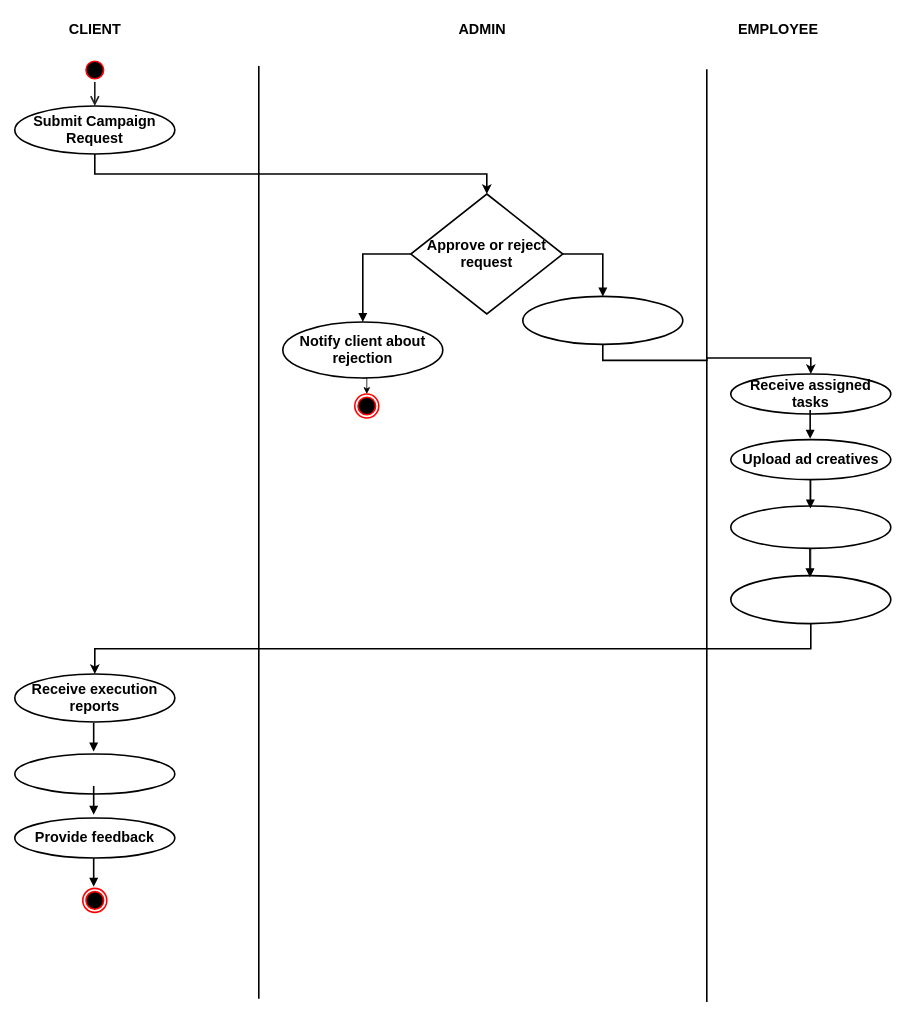
This 905x1017 diagram has some shape labels left out. The centre of each missing label's shape, as x and y in pixels:
Assign Task to employee: the point at 602,320
Executive campaigns: the point at 810,527
Generate execution reports: the point at 810,599
View Campaign performance: the point at 94,773
